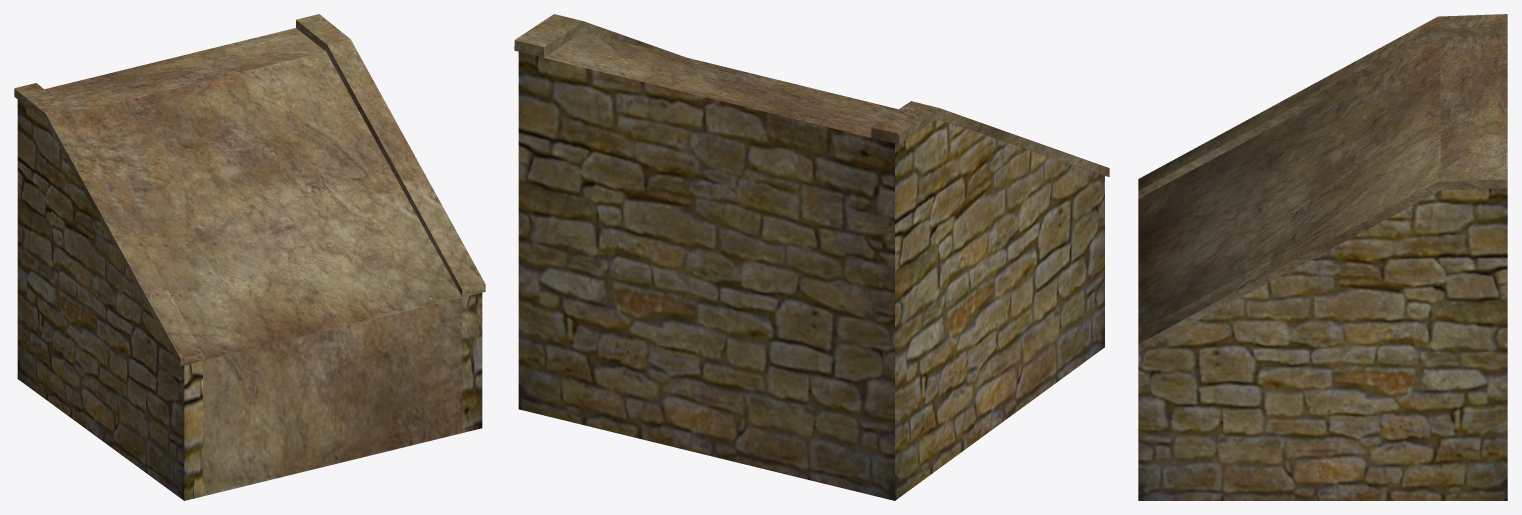
File: stone_ramp_double.fbx
3 views of the same model, side by side, from view 1: azimuth 30°, elevation 25°; view 2: azimuth 150°, elevation 25°; view 3: azimuth 270°, elevation 25° (orthographic). The views are drawn at different scales.
Parts seen in each view (by area): view 1: polySurface5, polySurface6; view 2: polySurface6, polySurface5; view 3: polySurface5, polySurface6.
Part boxes in pixels (x1,y1,x2,y2): polySurface5: (14, 14, 485, 500); polySurface6: (44, 28, 462, 360); polySurface6: (518, 32, 897, 500); polySurface5: (514, 14, 1109, 500); polySurface5: (1138, 14, 1507, 500); polySurface6: (1138, 35, 1507, 331).
Size of the model in its own units: 1178 by 1077 by 1114.
1 material, 1 textured.
